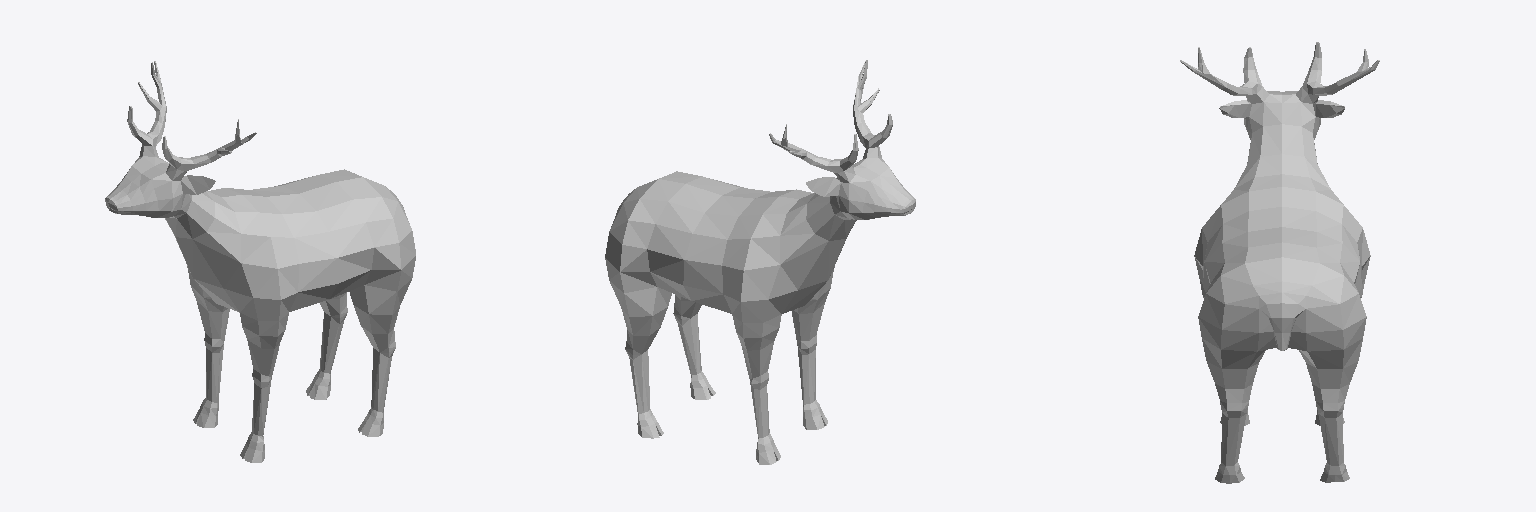
The model's file is deer.obj.
3 views of the same model, side by side, from view 1: azimuth 30°, elevation 25°; view 2: azimuth 150°, elevation 25°; view 3: azimuth 270°, elevation 25° (orthographic).
Parts seen in each view (by area): view 1: deer___UN; view 2: deer___UN; view 3: deer___UN.
Part boxes in pixels (left/top/right/bottom): deer___UN: left=105, top=61, right=415, bottom=462; deer___UN: left=605, top=60, right=915, bottom=464; deer___UN: left=1180, top=42, right=1379, bottom=483.
Bounding box in the file's own units: 13.71 × 16.15 × 8.13.